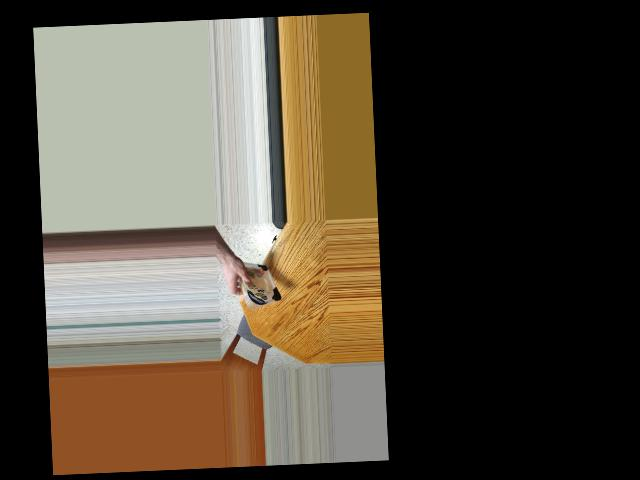cheese: (240, 255, 278, 306)
